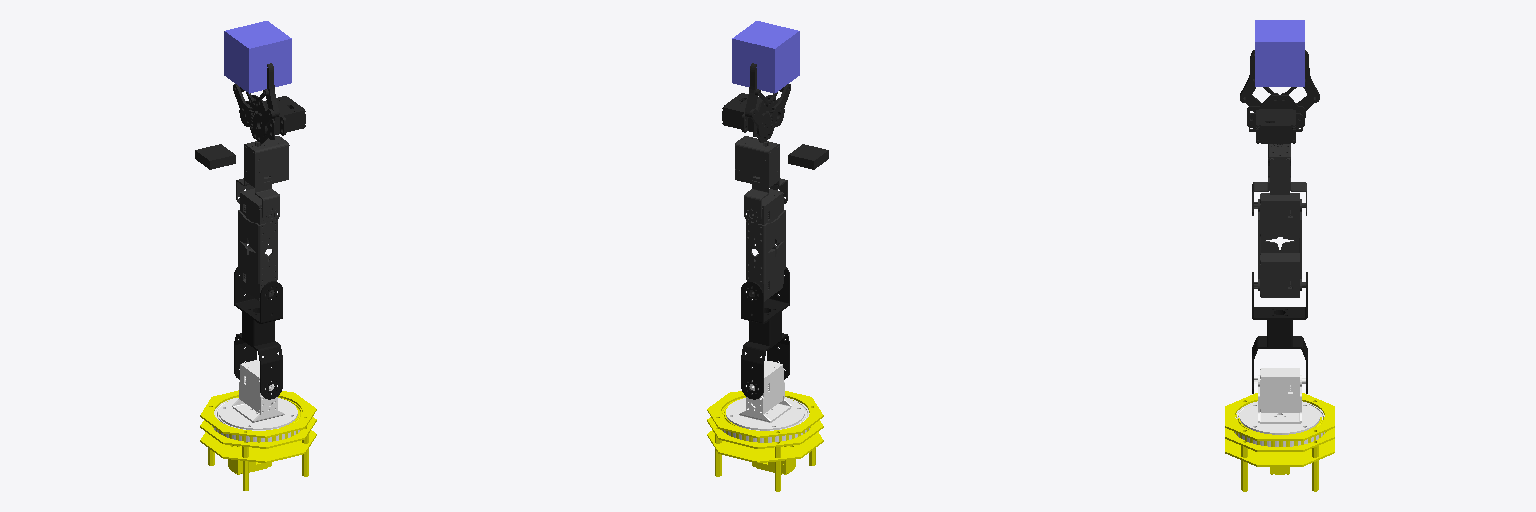
URDF robot description (A1_description):
<?xml version="1.0" encoding="utf-8"?>
<!-- This URDF was automatically created by SolidWorks to URDF Exporter! Originally created by Stephen Brawner (brawner@gmail.com) 
     Commit Version: 1.6.0-4-g7f85cfe  Build Version: 1.6.7995.38578
     For more information, please see http://wiki.ros.org/sw_urdf_exporter -->
<robot
  name="A1_description">
  <link
    name="base_footprint">
    <inertial>
      <origin
        xyz="0 0 0"
        rpy="0 0 0" />
      <mass
        value="0" />
      <inertia
        ixx="0"
        ixy="0"
        ixz="0"
        iyy="0"
        iyz="0"
        izz="0" />
    </inertial>
  </link>
  <joint
    name="world_to_base"
    type="fixed">
    <origin
      xyz="0 0 0"
      rpy="0 0 3.14159265359" />
    <parent
      link="base_footprint" />
    <child
      link="base_link" />
  </joint>
  <link
    name="base_link">
    <inertial>
      <origin
        xyz="0.00101552858041876 -1.23050644189604E-05 0.0492338256278236"
        rpy="0 0 0" />
      <mass
        value="0.303146304961026" />
      <inertia
        ixx="0.000229422866993753"
        ixy="-2.66559260806856E-10"
        ixz="8.08919655194803E-08"
        iyy="0.000232399980656072"
        iyz="9.11524933608658E-11"
        izz="0.000444426560442023" />
    </inertial>
    <visual>
      <origin
        xyz="0 0 0"
        rpy="0 0 0" />
      <geometry>
        <mesh
          filename="package://A1_description/meshes/base_link.STL" />
      </geometry>
      <material
        name="">
        <color
          rgba="1 1 0 1" />
      </material>
    </visual>
    <collision>
      <origin
        xyz="0 0 0"
        rpy="0 0 0" />
      <geometry>
        <mesh
          filename="package://A1_description/meshes/base_link.STL" />
      </geometry>
    </collision>
  </link>
  <link
    name="link1">
    <inertial>
      <origin
        xyz="-0.00242389712204533 -1.33133821402787E-05 -5.22236721844926E-06"
        rpy="0 0 0" />
      <mass
        value="0.258047338437728" />
      <inertia
        ixx="0.000392638333383343"
        ixy="2.92195112785068E-08"
        ixz="-1.47633422254501E-10"
        iyy="0.000200318680837016"
        iyz="3.80699591407616E-10"
        izz="0.000204628596173256" />
    </inertial>
    <visual>
      <origin
        xyz="0 0 0"
        rpy="0 0 0" />
      <geometry>
        <mesh
          filename="package://A1_description/meshes/link1.STL" />
      </geometry>
      <material
        name="">
        <color
          rgba="1 1 1 1" />
      </material>
    </visual>
    <collision>
      <origin
        xyz="0 0 0"
        rpy="0 0 0" />
      <geometry>
        <mesh
          filename="package://A1_description/meshes/link1.STL" />
      </geometry>
    </collision>
  </link>
  <joint
    name="joint1"
    type="revolute">
    <origin
      xyz="3.7894E-05 -3.7894E-05 0.065"
      rpy="3.1416 -1.5708 0" />
    <parent
      link="base_link" />
    <child
      link="link1" />
    <axis
      xyz="1 0 0" />
    <limit
      lower="-2.6179"
      upper="2.6179"
      effort="1"
      velocity="1" />
  </joint>
  <link
    name="link2">
    <inertial>
      <origin
        xyz="0.0559779522682743 0.0277713643302713 -1.33226762955019E-15"
        rpy="0 0 0" />
      <mass
        value="0.0292941676126594" />
      <inertia
        ixx="1.0098871364547E-05"
        ixy="1.48048521746688E-19"
        ixz="-6.46457070693473E-21"
        iyy="6.24776323259193E-06"
        iyz="-1.46947601798089E-21"
        izz="1.2676334069482E-05" />
    </inertial>
    <visual>
      <origin
        xyz="0 0 0"
        rpy="0 0 0" />
      <geometry>
        <mesh
          filename="package://A1_description/meshes/link2.STL" />
      </geometry>
      <material
        name="">
        <color
          rgba="0.149019607843137 0.149019607843137 0.149019607843137 1" />
      </material>
    </visual>
    <collision>
      <origin
        xyz="0 0 0"
        rpy="0 0 0" />
      <geometry>
        <mesh
          filename="package://A1_description/meshes/link2.STL" />
      </geometry>
    </collision>
  </link>
  <joint
    name="joint2"
    type="revolute">
    <origin
      xyz="0.0384011585138843 -0.0280427286607554 0.000112794652719517"
      rpy="0 0 0" />
    <parent
      link="link1" />
    <child
      link="link2" />
    <axis
      xyz="0 -1 0" />
    <limit
      lower="-1.5707"
      upper="1.5707"
      effort="1"
      velocity="1" />
  </joint>
  <link
    name="link3">
    <inertial>
      <origin
        xyz="0.0435807988520146 -0.0275938137640814 0.000897639461304722"
        rpy="0 0 0" />
      <mass
        value="0.07324048600557" />
      <inertia
        ixx="1.42342228458047E-05"
        ixy="-1.40703445398905E-12"
        ixz="-2.95266844703855E-10"
        iyy="1.44156892978549E-05"
        iyz="9.12662435471617E-21"
        izz="2.36438636238762E-05" />
    </inertial>
    <visual>
      <origin
        xyz="0 0 0"
        rpy="0 0 0" />
      <geometry>
        <mesh
          filename="package://A1_description/meshes/link3.STL" />
      </geometry>
      <material
        name="">
        <color
          rgba="0.250980392156863 0.250980392156863 0.250980392156863 1" />
      </material>
    </visual>
    <collision>
      <origin
        xyz="0 0 0"
        rpy="0 0 0" />
      <geometry>
        <mesh
          filename="package://A1_description/meshes/link3.STL" />
      </geometry>
    </collision>
  </link>
  <joint
    name="joint3"
    type="revolute">
    <origin
      xyz="0.10506969244116 0.0555213643303918 0"
      rpy="0 0 0" />
    <parent
      link="link2" />
    <child
      link="link3" />
    <axis
      xyz="0 1 0" />
    <limit
      lower="-2.268861111"
      upper="2.268861111"
      effort="1"
      velocity="1" />
  </joint>
  <link
    name="link4">
    <inertial>
      <origin
        xyz="0.0446657818355911 -0.0271205621084167 -0.00906240843022377"
        rpy="0 0 0" />
      <mass
        value="0.0381126564083311" />
      <inertia
        ixx="7.48254504589362E-06"
        ixy="3.80699591465632E-10"
        ixz="5.11195698063154E-07"
        iyy="1.25421846509825E-05"
        iyz="1.47633422330827E-10"
        izz="1.05051567305746E-05" />
    </inertial>
    <visual>
      <origin
        xyz="0 0 0"
        rpy="0 0 0" />
      <geometry>
        <mesh
          filename="package://A1_description/meshes/link4.STL" />
      </geometry>
      <material
        name="">
        <color
          rgba="0.250980392156863 0.250980392156863 0.250980392156863 1" />
      </material>
    </visual>
    <collision>
      <origin
        xyz="0 0 0"
        rpy="0 0 0" />
      <geometry>
        <mesh
          filename="package://A1_description/meshes/link4.STL" />
      </geometry>
    </collision>
  </link>
  <joint
    name="joint4"
    type="revolute">
    <origin
      xyz="0.0871615977040367 -0.000500000000001943 0.000311127984646831"
      rpy="0 0 0" />
    <parent
      link="link3" />
    <child
      link="link4" />
    <axis
      xyz="0 -1 0" />
    <limit
      lower="-2.443388889"
      upper="2.443388889"
      effort="1"
      velocity="1" />
  </joint>
  <link
    name="link5">
    <inertial>
      <origin
        xyz="0.0317799388191369 -0.00293083767543667 -0.0145095022099833"
        rpy="0 0 0" />
      <mass
        value="0.0455072301968907" />
      <inertia
        ixx="9.9849446696972E-06"
        ixy="-2.66504713989686E-09"
        ixz="-9.1152493354193E-11"
        iyy="7.60846958311746E-06"
        iyz="8.08919655194885E-08"
        izz="9.09220227722319E-06" />
    </inertial>
    <visual>
      <origin
        xyz="0 0 0"
        rpy="0 0 0" />
      <geometry>
        <mesh
          filename="package://A1_description/meshes/link5.STL" />
      </geometry>
      <material
        name="">
        <color
          rgba="0.196078431372549 0.196078431372549 0.196078431372549 1" />
      </material>
    </visual>
    <collision>
      <origin
        xyz="0 0 0"
        rpy="0 0 0" />
      <geometry>
        <mesh
          filename="package://A1_description/meshes/link5.STL" />
      </geometry>
    </collision>
  </link>
  <joint
    name="joint5"
    type="revolute">
    <origin
      xyz="0.0712499999999997 -0.0272500000000622 0"
      rpy="0 0 0" />
    <parent
      link="link4" />
    <child
      link="link5" />
    <axis
      xyz="1 0 0" />
    <limit
      lower="-2.356125"
      upper="2.356125"
      effort="1"
      velocity="1" />
  </joint>
  <link
    name="link6">
    <inertial>
      <origin
        xyz="0.1 0 0"
        rpy="0 0 0" />
      <mass
        value="0.01" />
      <inertia
        ixx="1e-6"
        ixy="0"
        ixz="0"
        iyy="1e-6"
        iyz="0"
        izz="1e-6" />
    </inertial>
    <visual>
      <origin
        xyz="0 0 0"
        rpy="0 0 0" />
      <geometry>
        <box size="0.05 0.05 0.05"/>
      </geometry>
      <material name="">
        <color rgba="0.5 0.5 1 1"/>
      </material>
    </visual>
    <collision>
      <origin
        xyz="0 0 0"
        rpy="0 0 0" />
      <geometry>
        <box size="0.05 0.05 0.05"/>
      </geometry>
    </collision>
  </link>
  <joint
    name="joint6"
    type="revolute">
    <origin
      xyz="0.095 0 0"
      rpy="0 0 0" />
    <parent
      link="link5" />
    <child
      link="link6" />
    <axis
      xyz="0 1 0" />
    <limit
      lower="-0.05"
      upper="0.05"
      effort="1"
      velocity="1" />
  </joint>
  <link
    name="camera_link">
    <inertial>
      <origin
        xyz="0 0 0"
        rpy="0 0 0" />
      <mass
        value="0.02" />
      <inertia
        ixx="1e-6"
        ixy="0"
        ixz="0"
        iyy="1e-6"
        iyz="0"
        izz="1e-6" />
    </inertial>
    <visual>
      <origin
        xyz="0 0 0"
        rpy="0 0 0" />
      <geometry>
        <box size="0.01 0.03 0.03"/>
      </geometry>
      <material name="">
        <color rgba="0.2 0.2 0.2 1"/>
      </material>
    </visual>
    <collision>
      <origin
        xyz="0 0 0"
        rpy="0 0 0" />
      <geometry>
        <box size="0.01 0.03 0.03"/>
      </geometry>
    </collision>
  </link>
  <joint
    name="camera_joint"
    type="fixed">
    <origin
      xyz="-0.005 0 0.05"
      rpy="0 0 0" />
    <parent
      link="link5" />
    <child
      link="camera_link" />
  </joint>
</robot>

--- What the picture shows (computed from the rendered views, not written in the file) ---
Views: 3 orthographic renders of the robot side by side, from view 1: azimuth 30°, elevation 25°; view 2: azimuth 150°, elevation 25°; view 3: azimuth 270°, elevation 25°.
Robot: A1_description — 9 links, 8 joints (6 revolute, 2 fixed); root link base_footprint; default pose: all joints at 0.
Visible links, largest first — view 1: base_link, link2, link6, link3, link1, link4, link5, camera_link; view 2: base_link, link2, link6, link3, link1, link4, link5, camera_link; view 3: base_link, link3, link1, link6, link5, link2, link4.
Link boxes in pixels (<box>): base_link: <box>200,390,316,490</box>; link2: <box>234,267,282,399</box>; link6: <box>224,21,291,93</box>; link3: <box>238,188,277,300</box>; link1: <box>212,360,299,441</box>; link4: <box>236,136,289,224</box>; link5: <box>233,63,305,143</box>; camera_link: <box>195,144,235,169</box>; base_link: <box>707,391,823,491</box>; link2: <box>741,267,789,399</box>; link6: <box>732,21,799,93</box>; link3: <box>746,189,785,301</box>; link1: <box>722,361,809,442</box>; link4: <box>735,136,787,224</box>; link5: <box>722,63,790,142</box>; camera_link: <box>788,144,828,169</box>; base_link: <box>1225,393,1334,491</box>; link3: <box>1254,193,1305,297</box>; link1: <box>1235,368,1324,446</box>; link6: <box>1255,20,1304,86</box>; link5: <box>1240,50,1319,143</box>; link2: <box>1252,272,1307,393</box>; link4: <box>1252,144,1306,215</box>.
Size in the robot's own frame: 0.1205 by 0.1102 by 0.4869 metres.
6 mesh visuals loaded from 6 distinct referenced files (6 binary STL).
